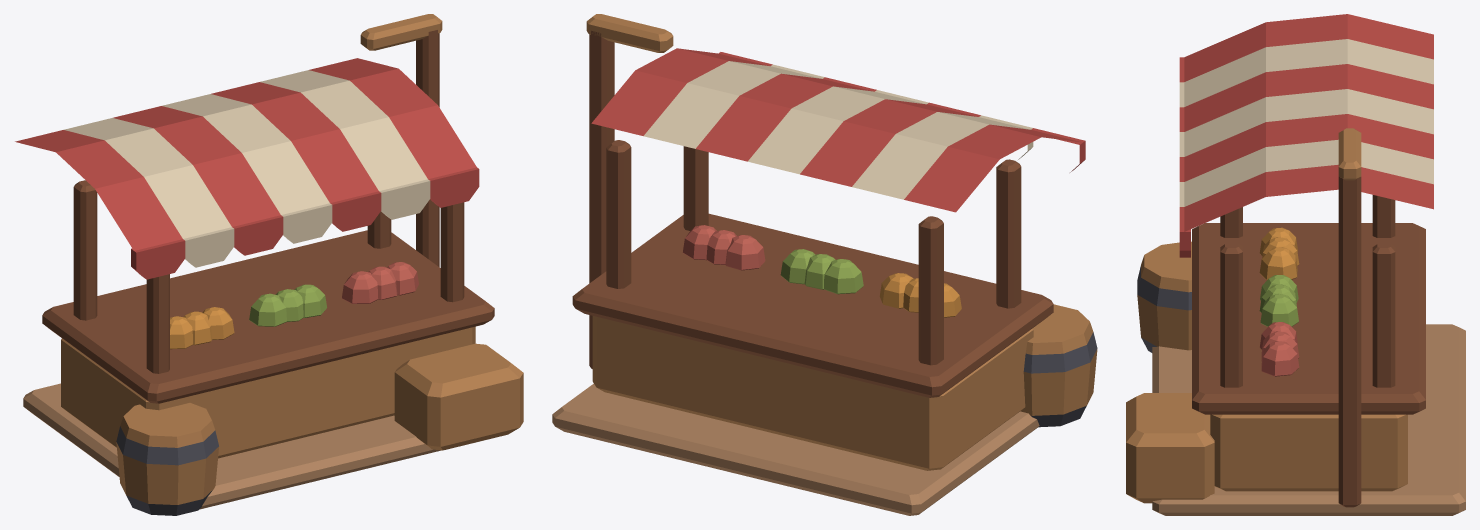
Rendered from market.glb.
3 renders of one model, left to right at view 1: azimuth 30°, elevation 25°; view 2: azimuth 150°, elevation 25°; view 3: azimuth 270°, elevation 25°, orthographic. The views are drawn at different scales.
Parts seen in each view (by area): view 1: Base, Upgrade2, Upgrade3; view 2: Base, Upgrade2, Upgrade3; view 3: Base, Upgrade2, Upgrade3.
Part boxes in pixels (<box>): Base: <box>15,58,494,509</box>; Upgrade2: <box>116,343,523,515</box>; Upgrade3: <box>360,14,442,266</box>; Base: <box>552,48,1085,515</box>; Upgrade2: <box>1020,304,1097,427</box>; Upgrade3: <box>586,14,673,368</box>; Base: <box>1152,14,1465,515</box>; Upgrade2: <box>1126,241,1214,503</box>; Upgrade3: <box>1338,128,1361,507</box>.
Bounding box in the file's own units: 2.09 × 2.08 × 1.5.
